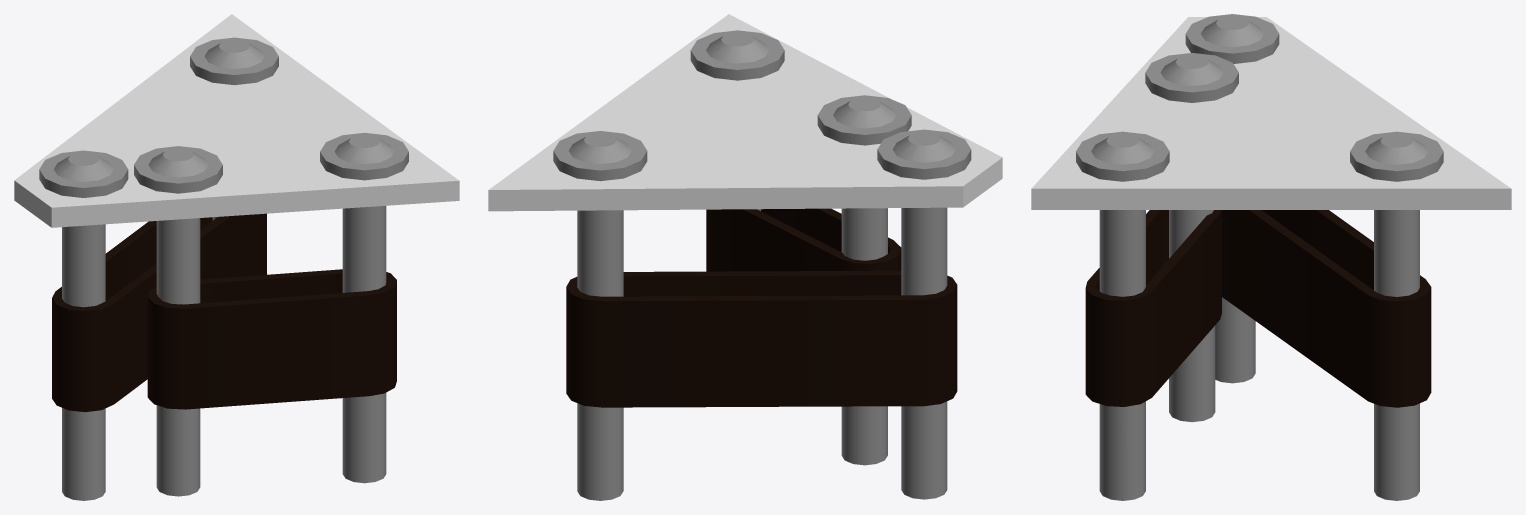
File: Triangle Island.FBX
3 renders of one model, left to right at view 1: azimuth 30°, elevation 25°; view 2: azimuth 150°, elevation 25°; view 3: azimuth 270°, elevation 25°, orthographic. The views are drawn at different scales.
Parts seen in each view (by area): view 1: Cover, Plastic Rail010, Plastic Rail009, Bolt015, Bolt014, Bolt013, Bolt012; view 2: Plastic Rail009, Cover, Bolt013, Bolt012, Plastic Rail010, Bolt015, Bolt014; view 3: Cover, Plastic Rail009, Plastic Rail010, Bolt014, Bolt012, Bolt015, Bolt013.
Boxes of the visible parts, x1,y1,x2,y2 form: Cover: (14, 14, 459, 227); Plastic Rail010: (147, 269, 396, 409); Plastic Rail009: (52, 213, 266, 412); Bolt015: (134, 146, 222, 496); Bolt014: (320, 132, 408, 483); Bolt013: (39, 150, 128, 500); Bolt012: (190, 37, 278, 220); Plastic Rail009: (566, 270, 957, 407); Cover: (488, 14, 1002, 211); Bolt013: (877, 129, 971, 499); Bolt012: (553, 131, 647, 500); Plastic Rail010: (706, 208, 901, 271); Bolt015: (817, 95, 911, 465); Bolt014: (690, 30, 784, 211); Cover: (1031, 17, 1511, 209); Plastic Rail009: (1222, 210, 1431, 407); Plastic Rail010: (1085, 210, 1221, 406); Bolt014: (1076, 131, 1169, 500); Bolt012: (1350, 131, 1443, 500); Bolt015: (1145, 53, 1238, 422); Bolt013: (1185, 14, 1279, 383).
Size of the model in its own units: 0.0346 by 0.033 by 0.041.
